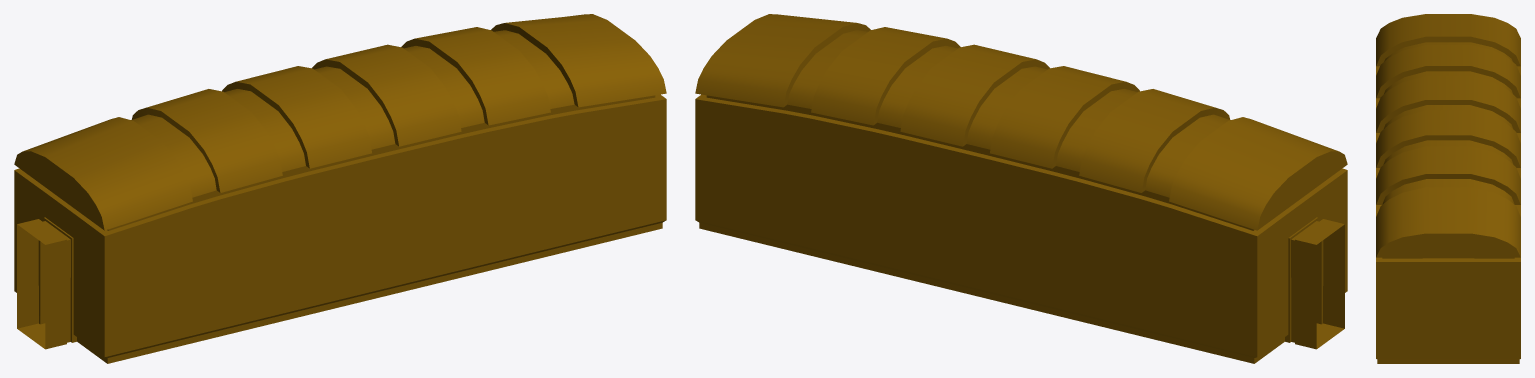
The model's file is GJ_Store_Car.fbx.
The picture shows the model from 3 angles, left to right: view 1: azimuth 30°, elevation 25°; view 2: azimuth 150°, elevation 25°; view 3: azimuth 270°, elevation 25°; orthographic projection. The views are drawn at different scales.
Parts seen in each view (by area): view 1: Passenger_Car; view 2: Passenger_Car; view 3: Passenger_Car.
Part boxes in pixels (left/top/right/bottom): Passenger_Car: left=14, top=14, right=666, bottom=363; Passenger_Car: left=695, top=14, right=1347, bottom=363; Passenger_Car: left=1376, top=14, right=1520, bottom=363.
Size of the model in its own units: 37.39 by 11.38 by 9.92.
